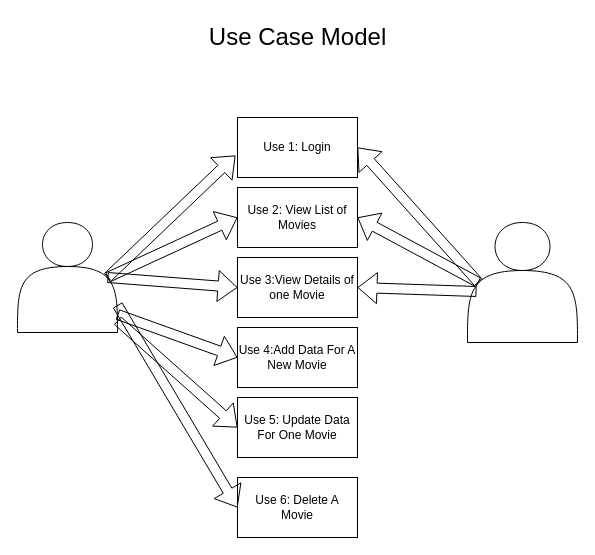
Image size: 595x555. Some labels were removed from this diagram. The centre of each missing label's shape, as x and y in pixels:
"Admin" belongs at (x=67, y=277).
"User" belongs at (x=522, y=282).
